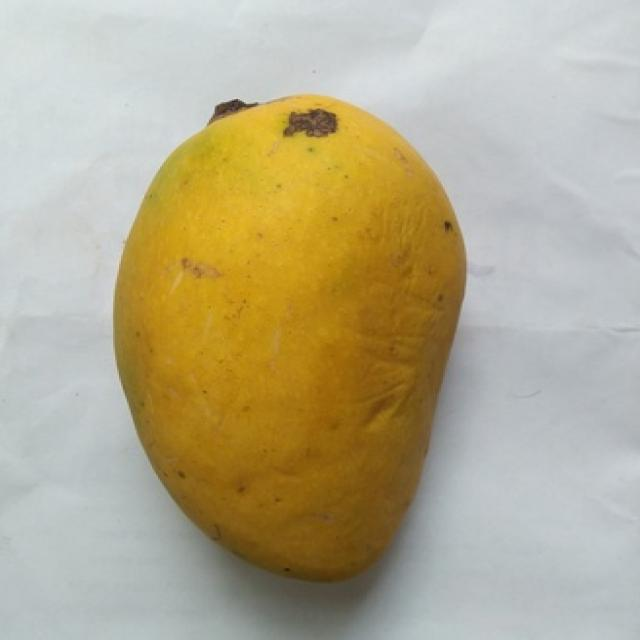Mango: (115, 96, 464, 579)
